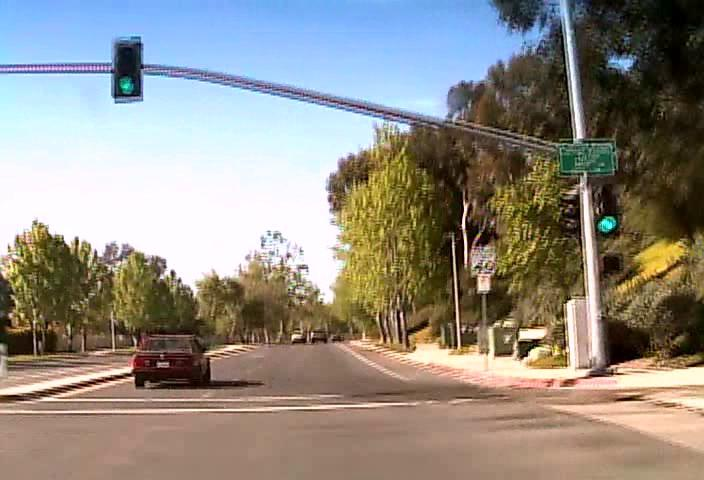speedLimit40: (468, 245, 496, 274)
